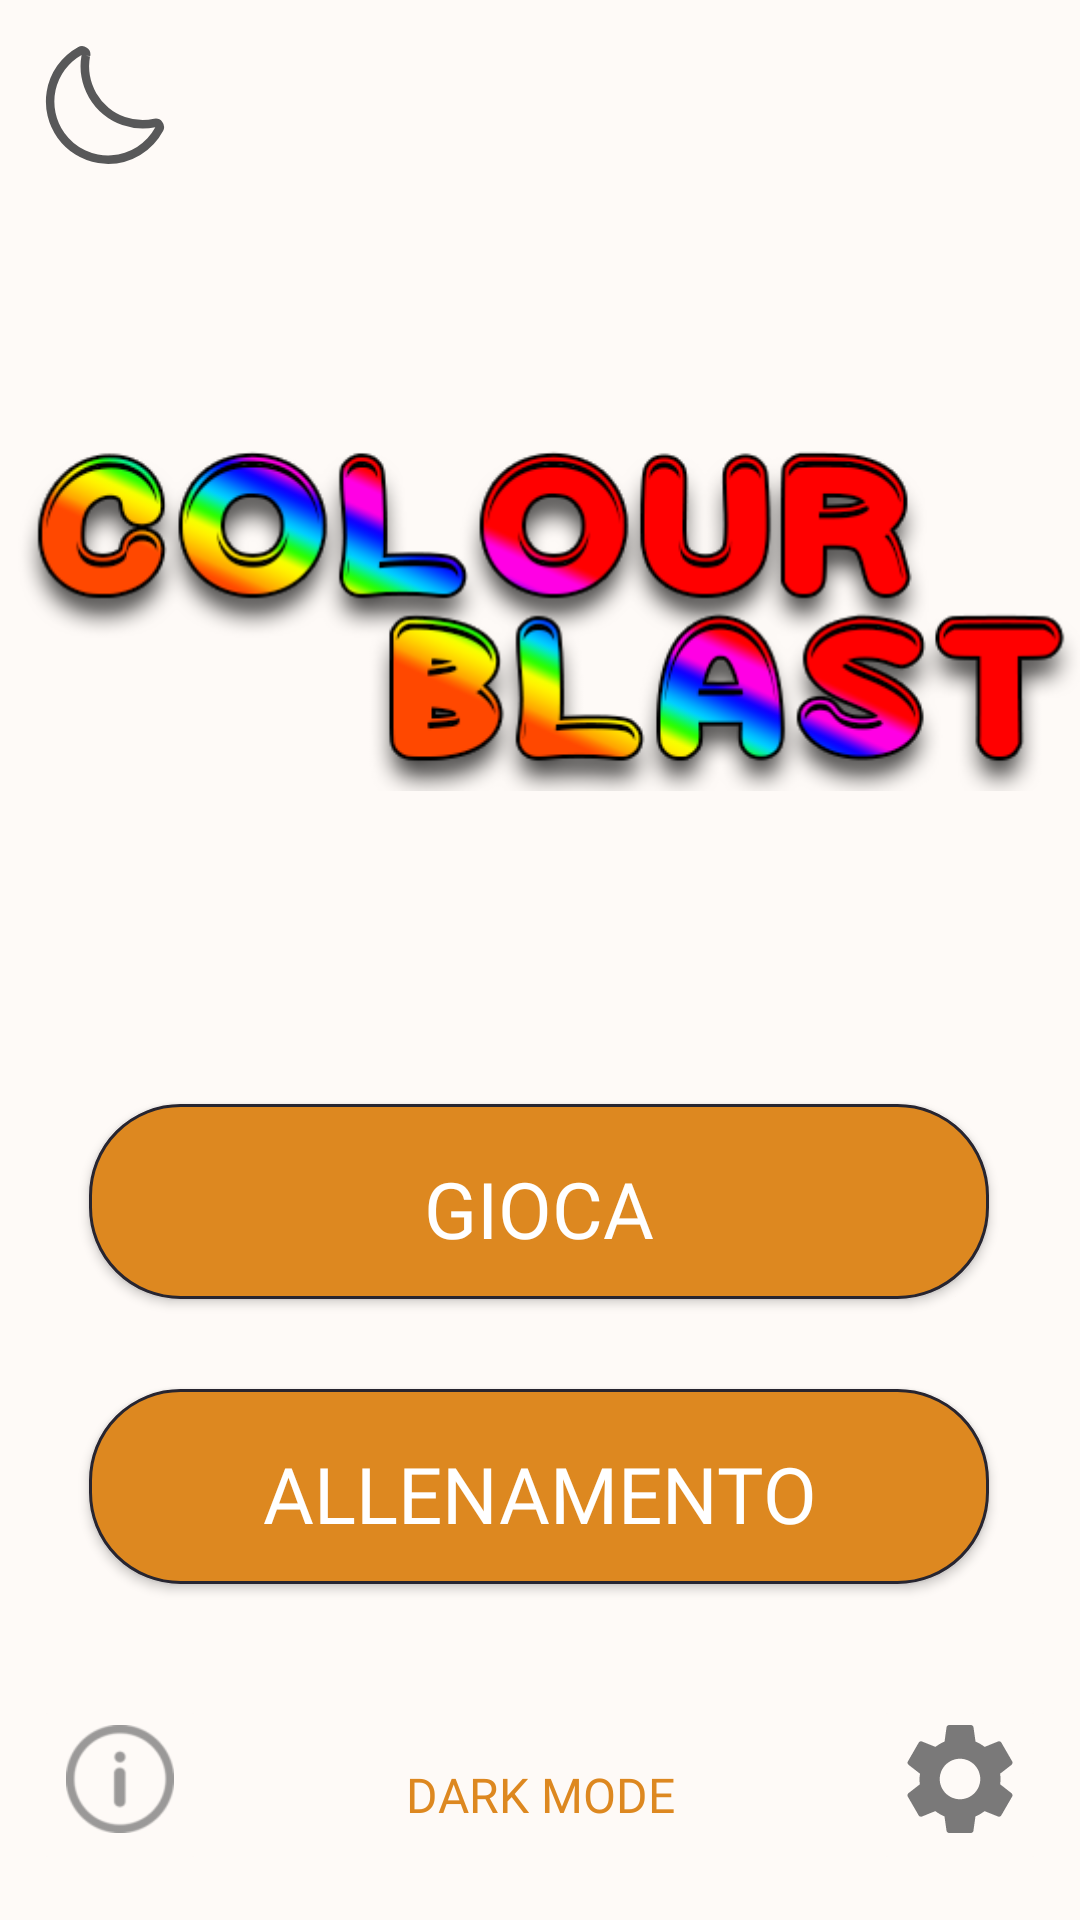

Where icons sit on this 1080*1920 app screen, as (x1,y1,x2,y2):
darkmode: (46,46,164,164)
info: (66,1725,174,1833)
settings: (907,1725,1013,1833)
